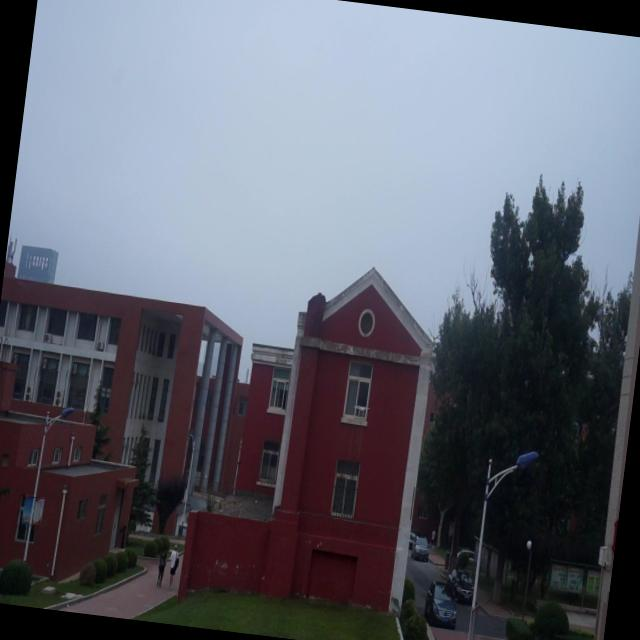drone: (352, 399, 372, 420)
